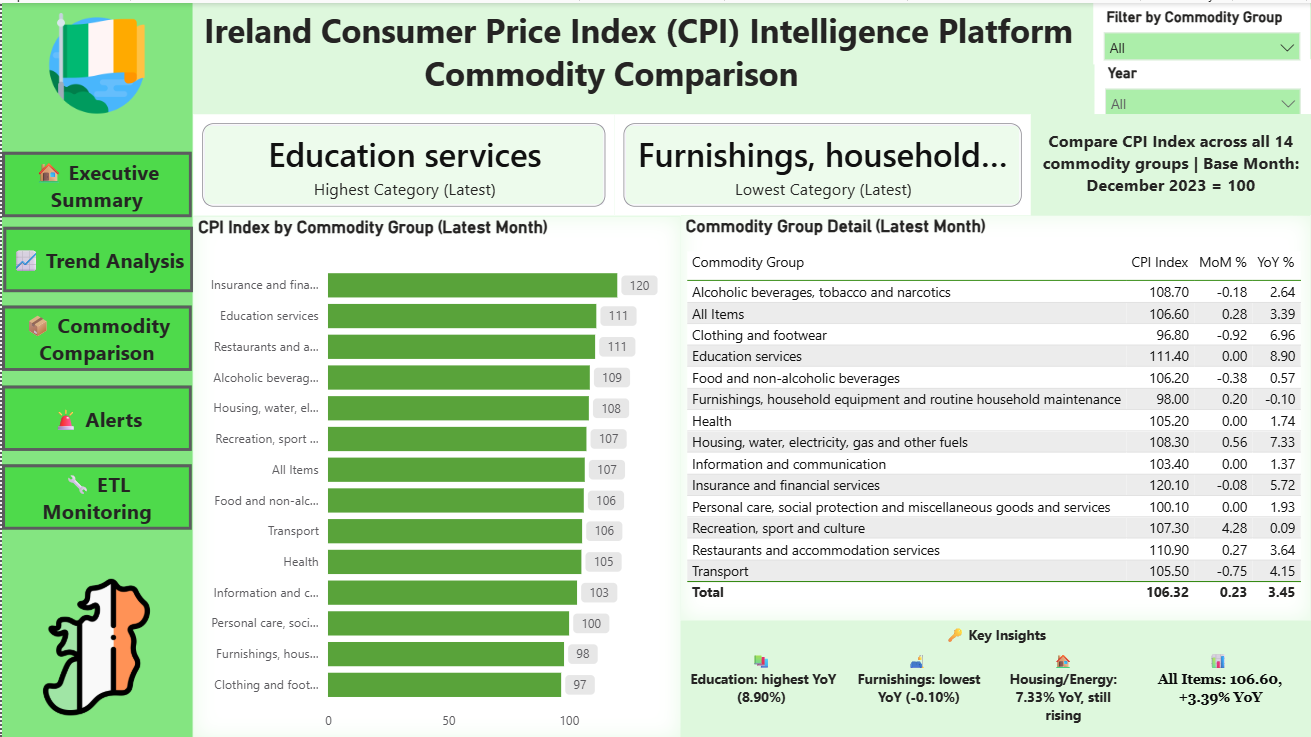

Layout of this report page (visuals, bound fields, positions):
{"tool":"powerbi","page":{"name":"Commodity Comparison","canvas":[1280,720],"ordinal":2},"visuals":[{"type":"cardVisual","fields":{"Data":["ireland_cpi_db vw_cpi_monthly_summary.Highest Category (Latest)"]},"box":[187.6,108.8,412.2,99.6],"z":0},{"type":"cardVisual","fields":{"Data":["ireland_cpi_db vw_cpi_monthly_summary.Lowest Category (Latest)"]},"box":[599.7,108.8,407.5,99.6],"z":1000},{"type":"clusteredBarChart","title":"CPI Index by Commodity Group (Latest Month)","fields":{"Category":["ireland_cpi_db vw_cpi_monthly_summary.group_name"],"Y":["Avg(ireland_cpi_db vw_cpi_monthly_summary.index_value)"]},"box":[187.1,209.1,476.9,511.1],"z":2000},{"type":"textbox","box":[0,0,1068.9,108.6],"z":3000},{"type":"tableEx","title":"Commodity Group Detail (Latest Month)","fields":{"Values":["ireland_cpi_db vw_cpi_monthly_summary.group_name","Avg(ireland_cpi_db vw_cpi_monthly_summary.index_value)","Avg(ireland_cpi_db vw_cpi_monthly_summary.mom_change)","Avg(ireland_cpi_db vw_cpi_monthly_summary.yoy_change)"]},"box":[664.5,208.4,615.9,396],"z":4000},{"type":"textbox","box":[0,0,186,720],"z":5000},{"type":"image","box":[26,562,133.9,135.1],"z":6000},{"type":"actionButton","box":[0,145,185.8,64.2],"z":7000},{"type":"actionButton","box":[0.8,219.2,185.8,64.2],"z":8000},{"type":"actionButton","box":[0,295.8,185.8,64.2],"z":9000},{"type":"actionButton","box":[0,374.2,185.8,64.2],"z":10000},{"type":"actionButton","box":[0,450.8,185.8,64.2],"z":11000},{"type":"image","box":[26,10,134,98],"z":12000},{"type":"textbox","box":[1008.2,119.2,269.2,89.7],"z":13000},{"type":"slicer","fields":{"Values":["DateTable.Year"]},"box":[1068.3,54.7,211.7,53.3],"z":14000},{"type":"slicer","fields":{"Values":["ireland_cpi_db vw_cpi_monthly_summary.group_name"]},"box":[1068,0,212,60],"z":15000},{"type":"textbox","box":[664.5,604.3,613.6,115.8],"z":16000},{"type":"textbox","box":[664.5,629.8,157.5,90.3],"z":17000},{"type":"textbox","box":[822,629.8,150.5,90.3],"z":18000},{"type":"textbox","box":[972.5,629.8,132,90.3],"z":19000},{"type":"textbox","box":[1104.2,629.8,174.9,90.5],"z":20000},{"type":"textbox","box":[821.7,604.1,300.8,35.5],"z":21000}]}

Visuals, with their boxes in screenshot pixels (x1, y1, x2, y2), scaled from the page's 1280x720 canvas onto the 1311x737 screenshot:
cardVisual - ireland_cpi_db vw_cpi_monthly_summary.Highest Category (Latest): rect(192, 111, 614, 213)
cardVisual - ireland_cpi_db vw_cpi_monthly_summary.Lowest Category (Latest): rect(614, 111, 1032, 213)
"CPI Index by Commodity Group (Latest Month)" clusteredBarChart: rect(192, 214, 680, 736)
textbox: rect(0, 0, 1095, 111)
"Commodity Group Detail (Latest Month)" tableEx: rect(681, 213, 1310, 619)
textbox: rect(0, 0, 191, 736)
image: rect(27, 575, 164, 714)
actionButton: rect(0, 148, 190, 214)
actionButton: rect(1, 224, 191, 290)
actionButton: rect(0, 303, 190, 368)
actionButton: rect(0, 383, 190, 449)
actionButton: rect(0, 461, 190, 527)
image: rect(27, 10, 164, 111)
textbox: rect(1033, 122, 1308, 214)
slicer - DateTable.Year: rect(1094, 56, 1310, 111)
slicer - ireland_cpi_db vw_cpi_monthly_summary.group_name: rect(1094, 0, 1310, 61)
textbox: rect(681, 619, 1309, 736)
textbox: rect(681, 645, 842, 736)
textbox: rect(842, 645, 996, 736)
textbox: rect(996, 645, 1131, 736)
textbox: rect(1131, 645, 1310, 736)
textbox: rect(842, 618, 1150, 655)
